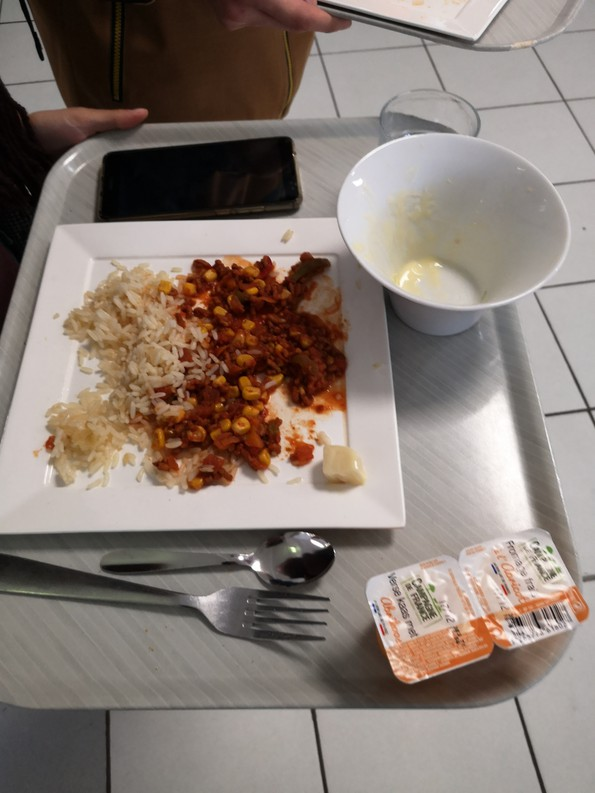cup: (374, 81, 489, 147)
cutlery: (1, 531, 343, 648)
orga: (89, 258, 356, 487)
trash: (365, 536, 582, 678)
